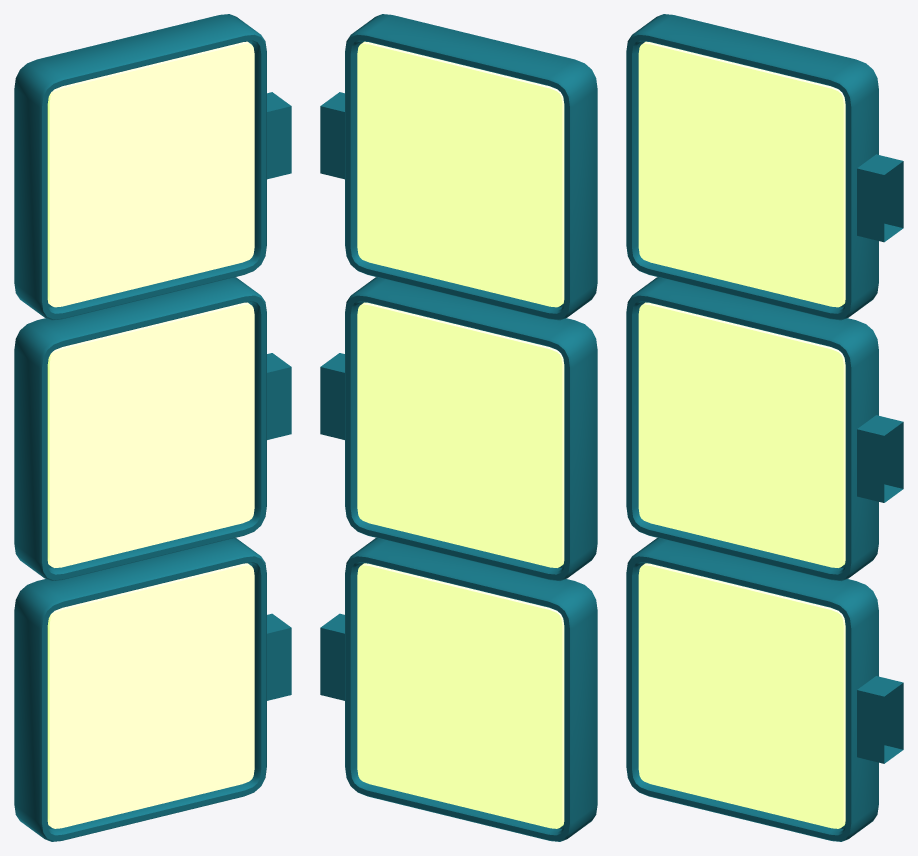
The model's file is Mesh_BackgroundProp_Advertising_05.FBX.
The picture shows the model from 3 angles, left to right: view 1: azimuth 30°, elevation 25°; view 2: azimuth 150°, elevation 25°; view 3: azimuth 330°, elevation 25°; orthographic projection.
Parts seen in each view (by area): view 1: Mesh_BackgroundProp_Advertising_05; view 2: Mesh_BackgroundProp_Advertising_05; view 3: Mesh_BackgroundProp_Advertising_05.
Boxes of the visible parts, x1,y1,x2,y2 form: Mesh_BackgroundProp_Advertising_05: (14,14,291,841); Mesh_BackgroundProp_Advertising_05: (320,14,597,841); Mesh_BackgroundProp_Advertising_05: (626,14,903,841).
Size of the model in its own units: 991 by 183 by 2834.
